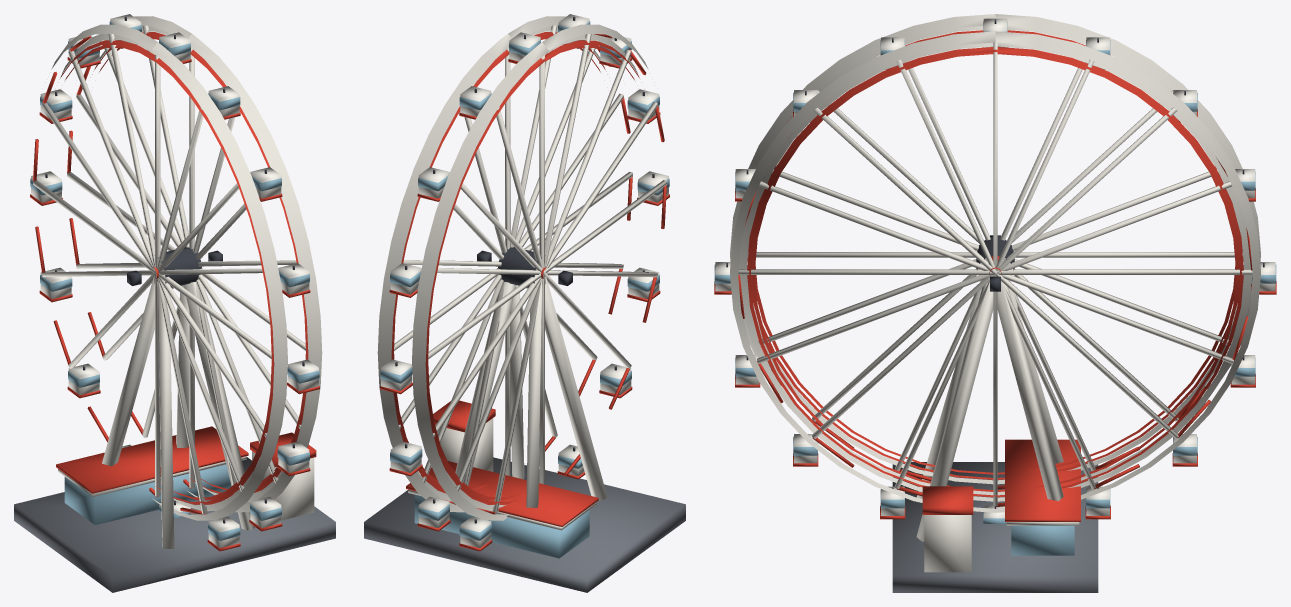
Rendered from kurogane_giant_ferris_wheel.glb.
3 renders of one model, left to right at view 1: azimuth 30°, elevation 25°; view 2: azimuth 150°, elevation 25°; view 3: azimuth 270°, elevation 25°, orthographic. The views are drawn at different scales.
Parts seen in each view (by area): view 1: Surface_structure, Surface_deck, Surface_accent, Surface_glass, Surface_gondola, Surface_hub; view 2: Surface_structure, Surface_deck, Surface_accent, Surface_gondola, Surface_glass, Surface_hub; view 3: Surface_structure, Surface_accent, Surface_deck, Surface_gondola, Surface_glass, Surface_hub.
Boxes of the visible parts, bbox=[...] form: Surface_structure: bbox=[33, 16, 322, 548]; Surface_deck: bbox=[14, 457, 335, 592]; Surface_accent: bbox=[30, 32, 319, 551]; Surface_glass: bbox=[30, 21, 319, 540]; Surface_gondola: bbox=[31, 14, 318, 548]; Surface_hub: bbox=[45, 16, 304, 523]; Surface_structure: bbox=[377, 16, 666, 530]; Surface_deck: bbox=[364, 457, 685, 592]; Surface_accent: bbox=[380, 32, 669, 551]; Surface_gondola: bbox=[381, 14, 668, 548]; Surface_glass: bbox=[380, 21, 669, 558]; Surface_hub: bbox=[395, 16, 654, 523]; Surface_structure: bbox=[730, 14, 1260, 572]; Surface_accent: bbox=[714, 30, 1276, 521]; Surface_deck: bbox=[892, 462, 1098, 592]; Surface_gondola: bbox=[715, 18, 1275, 518]; Surface_glass: bbox=[714, 21, 1276, 555]; Surface_hub: bbox=[726, 19, 1264, 508].
Size of the model in its own units: 34 by 71.9 by 71.
